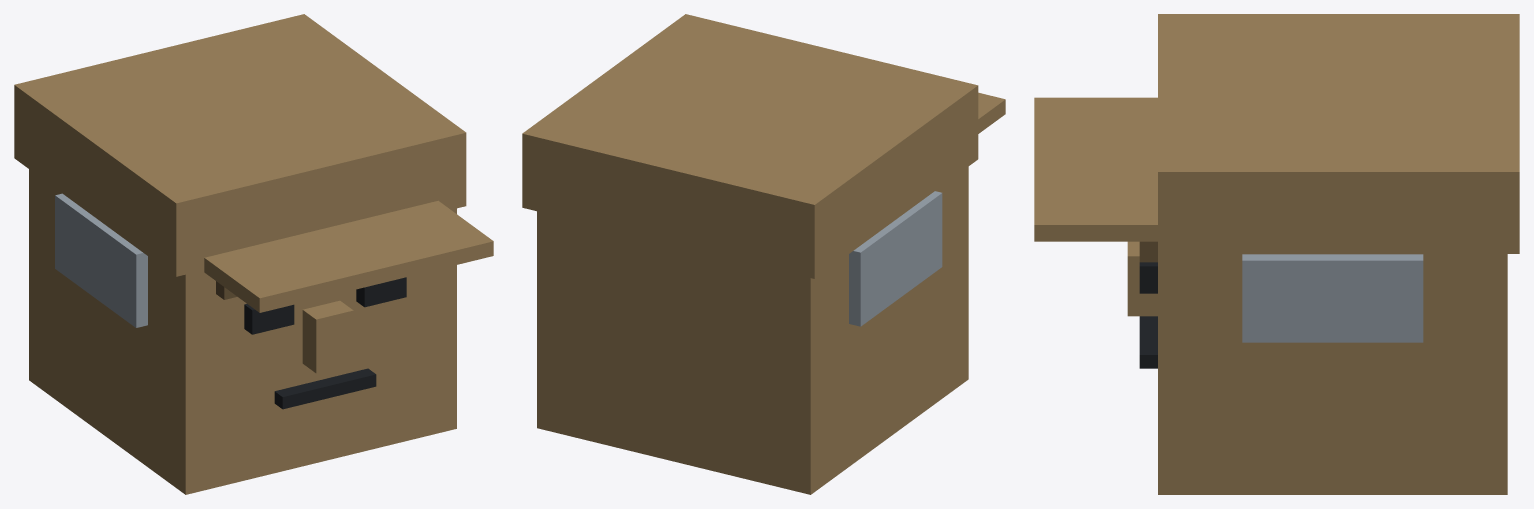
Rendered from pc_k9_head.fbx.
3 renders of one model, left to right at view 1: azimuth 30°, elevation 25°; view 2: azimuth 150°, elevation 25°; view 3: azimuth 270°, elevation 25°, orthographic. The views are drawn at different scales.
Parts seen in each view (by area): view 1: pc_k9_head; view 2: pc_k9_head; view 3: pc_k9_head.
Boxes of the visible parts, x1,y1,x2,y2 form: pc_k9_head: [14, 14, 493, 494]; pc_k9_head: [522, 14, 1005, 494]; pc_k9_head: [1034, 14, 1519, 494].
Size of the model in its own units: 126 by 120 by 161.
